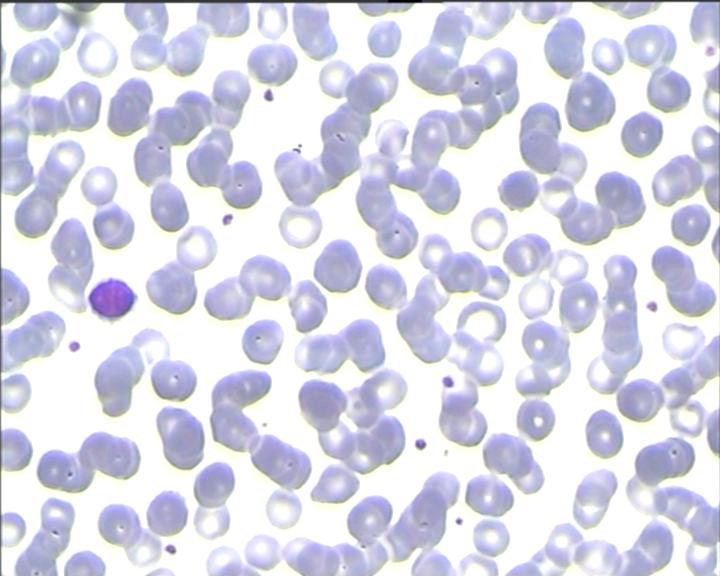lymp: (83, 274, 144, 322)
